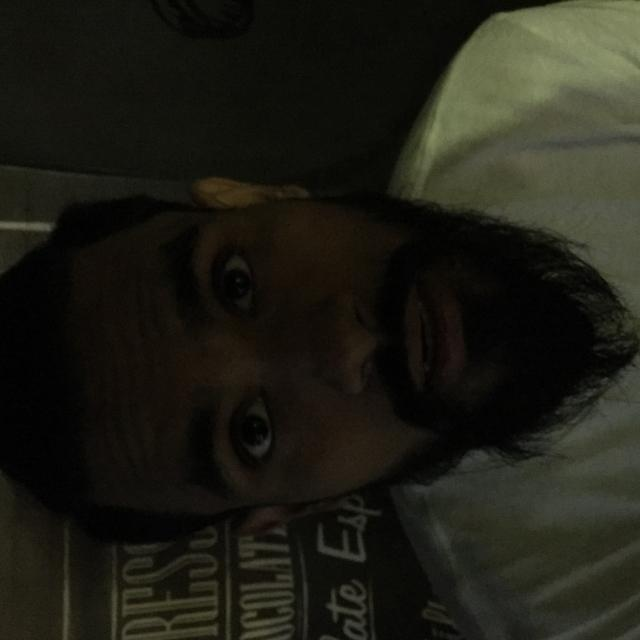Surprised: (80, 139, 577, 640)
